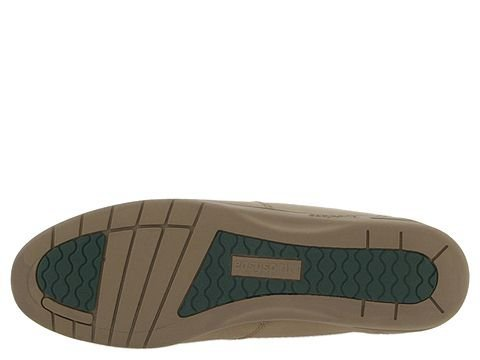chevron: (216, 240, 319, 326), (324, 249, 392, 303), (43, 254, 101, 306)
quad: (216, 240, 319, 326), (107, 192, 206, 269)
text: (216, 240, 319, 326)
